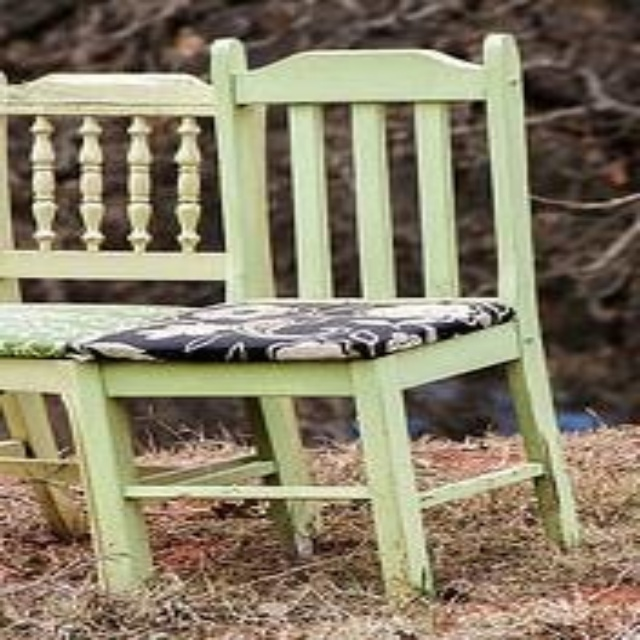obstacle: (0, 35, 575, 595)
